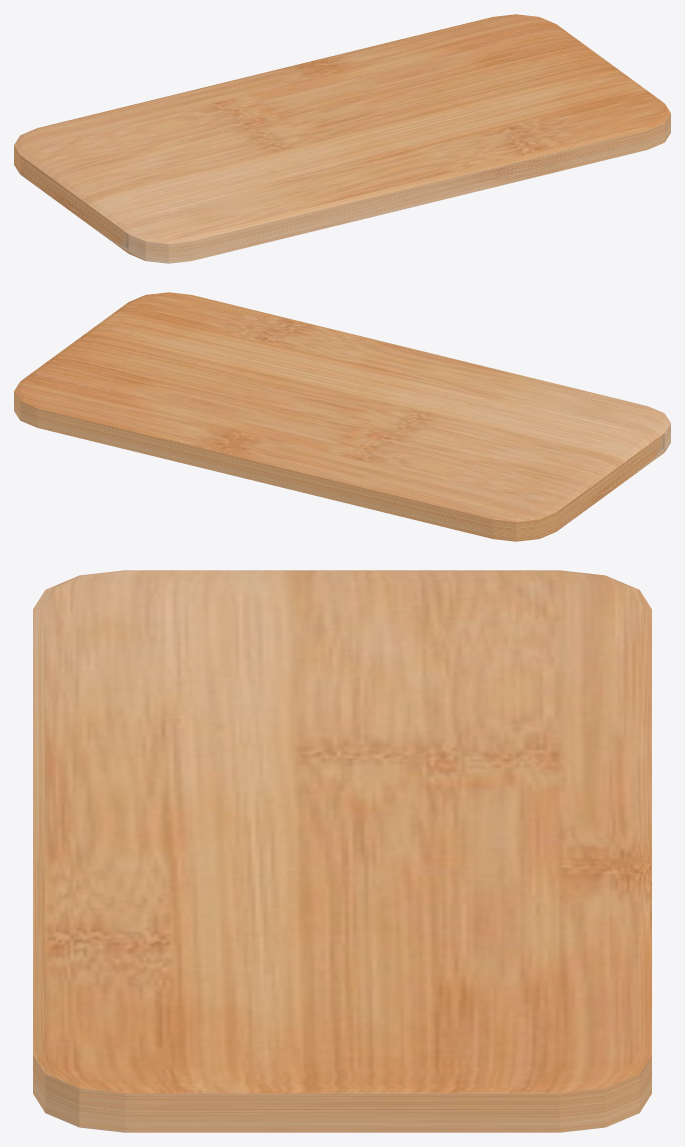
File: BambooCuttingBoard.glb
3 views of the same model, one above another, from view 1: azimuth 30°, elevation 25°; view 2: azimuth 150°, elevation 25°; view 3: azimuth 270°, elevation 25° (orthographic). The views are drawn at different scales.
Visible parts, largest first — view 1: mesh; view 2: mesh; view 3: mesh.
Part boxes in pixels (x1,y1,x2,y2): mesh: (14, 14, 670, 263); mesh: (14, 292, 670, 541); mesh: (33, 570, 651, 1132).
Size of the model in its own units: 4 by 0.2 by 2.
1 material, 1 textured.
